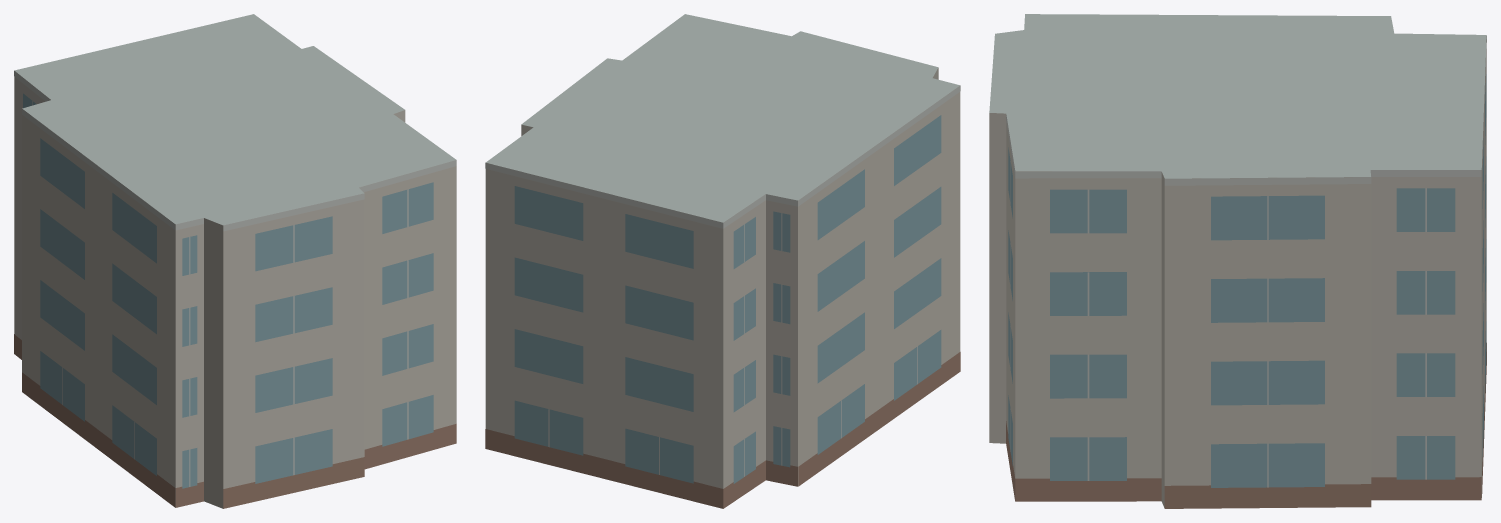
The model's file is survey-upis-32689876.glb.
3 renders of one model, left to right at view 1: azimuth 30°, elevation 25°; view 2: azimuth 150°, elevation 25°; view 3: azimuth 270°, elevation 25°, orthographic. The views are drawn at different scales.
Parts seen in each view (by area): view 1: survey-upis-32689876.tmp; view 2: survey-upis-32689876.tmp; view 3: survey-upis-32689876.tmp.
Boxes of the visible parts, x1=… form: survey-upis-32689876.tmp: x1=14, y1=14, x2=456, y2=508; survey-upis-32689876.tmp: x1=485, y1=14, x2=960, y2=508; survey-upis-32689876.tmp: x1=989, y1=14, x2=1486, y2=508.
Size of the model in its own units: 12.2 by 11.4 by 15.57.
